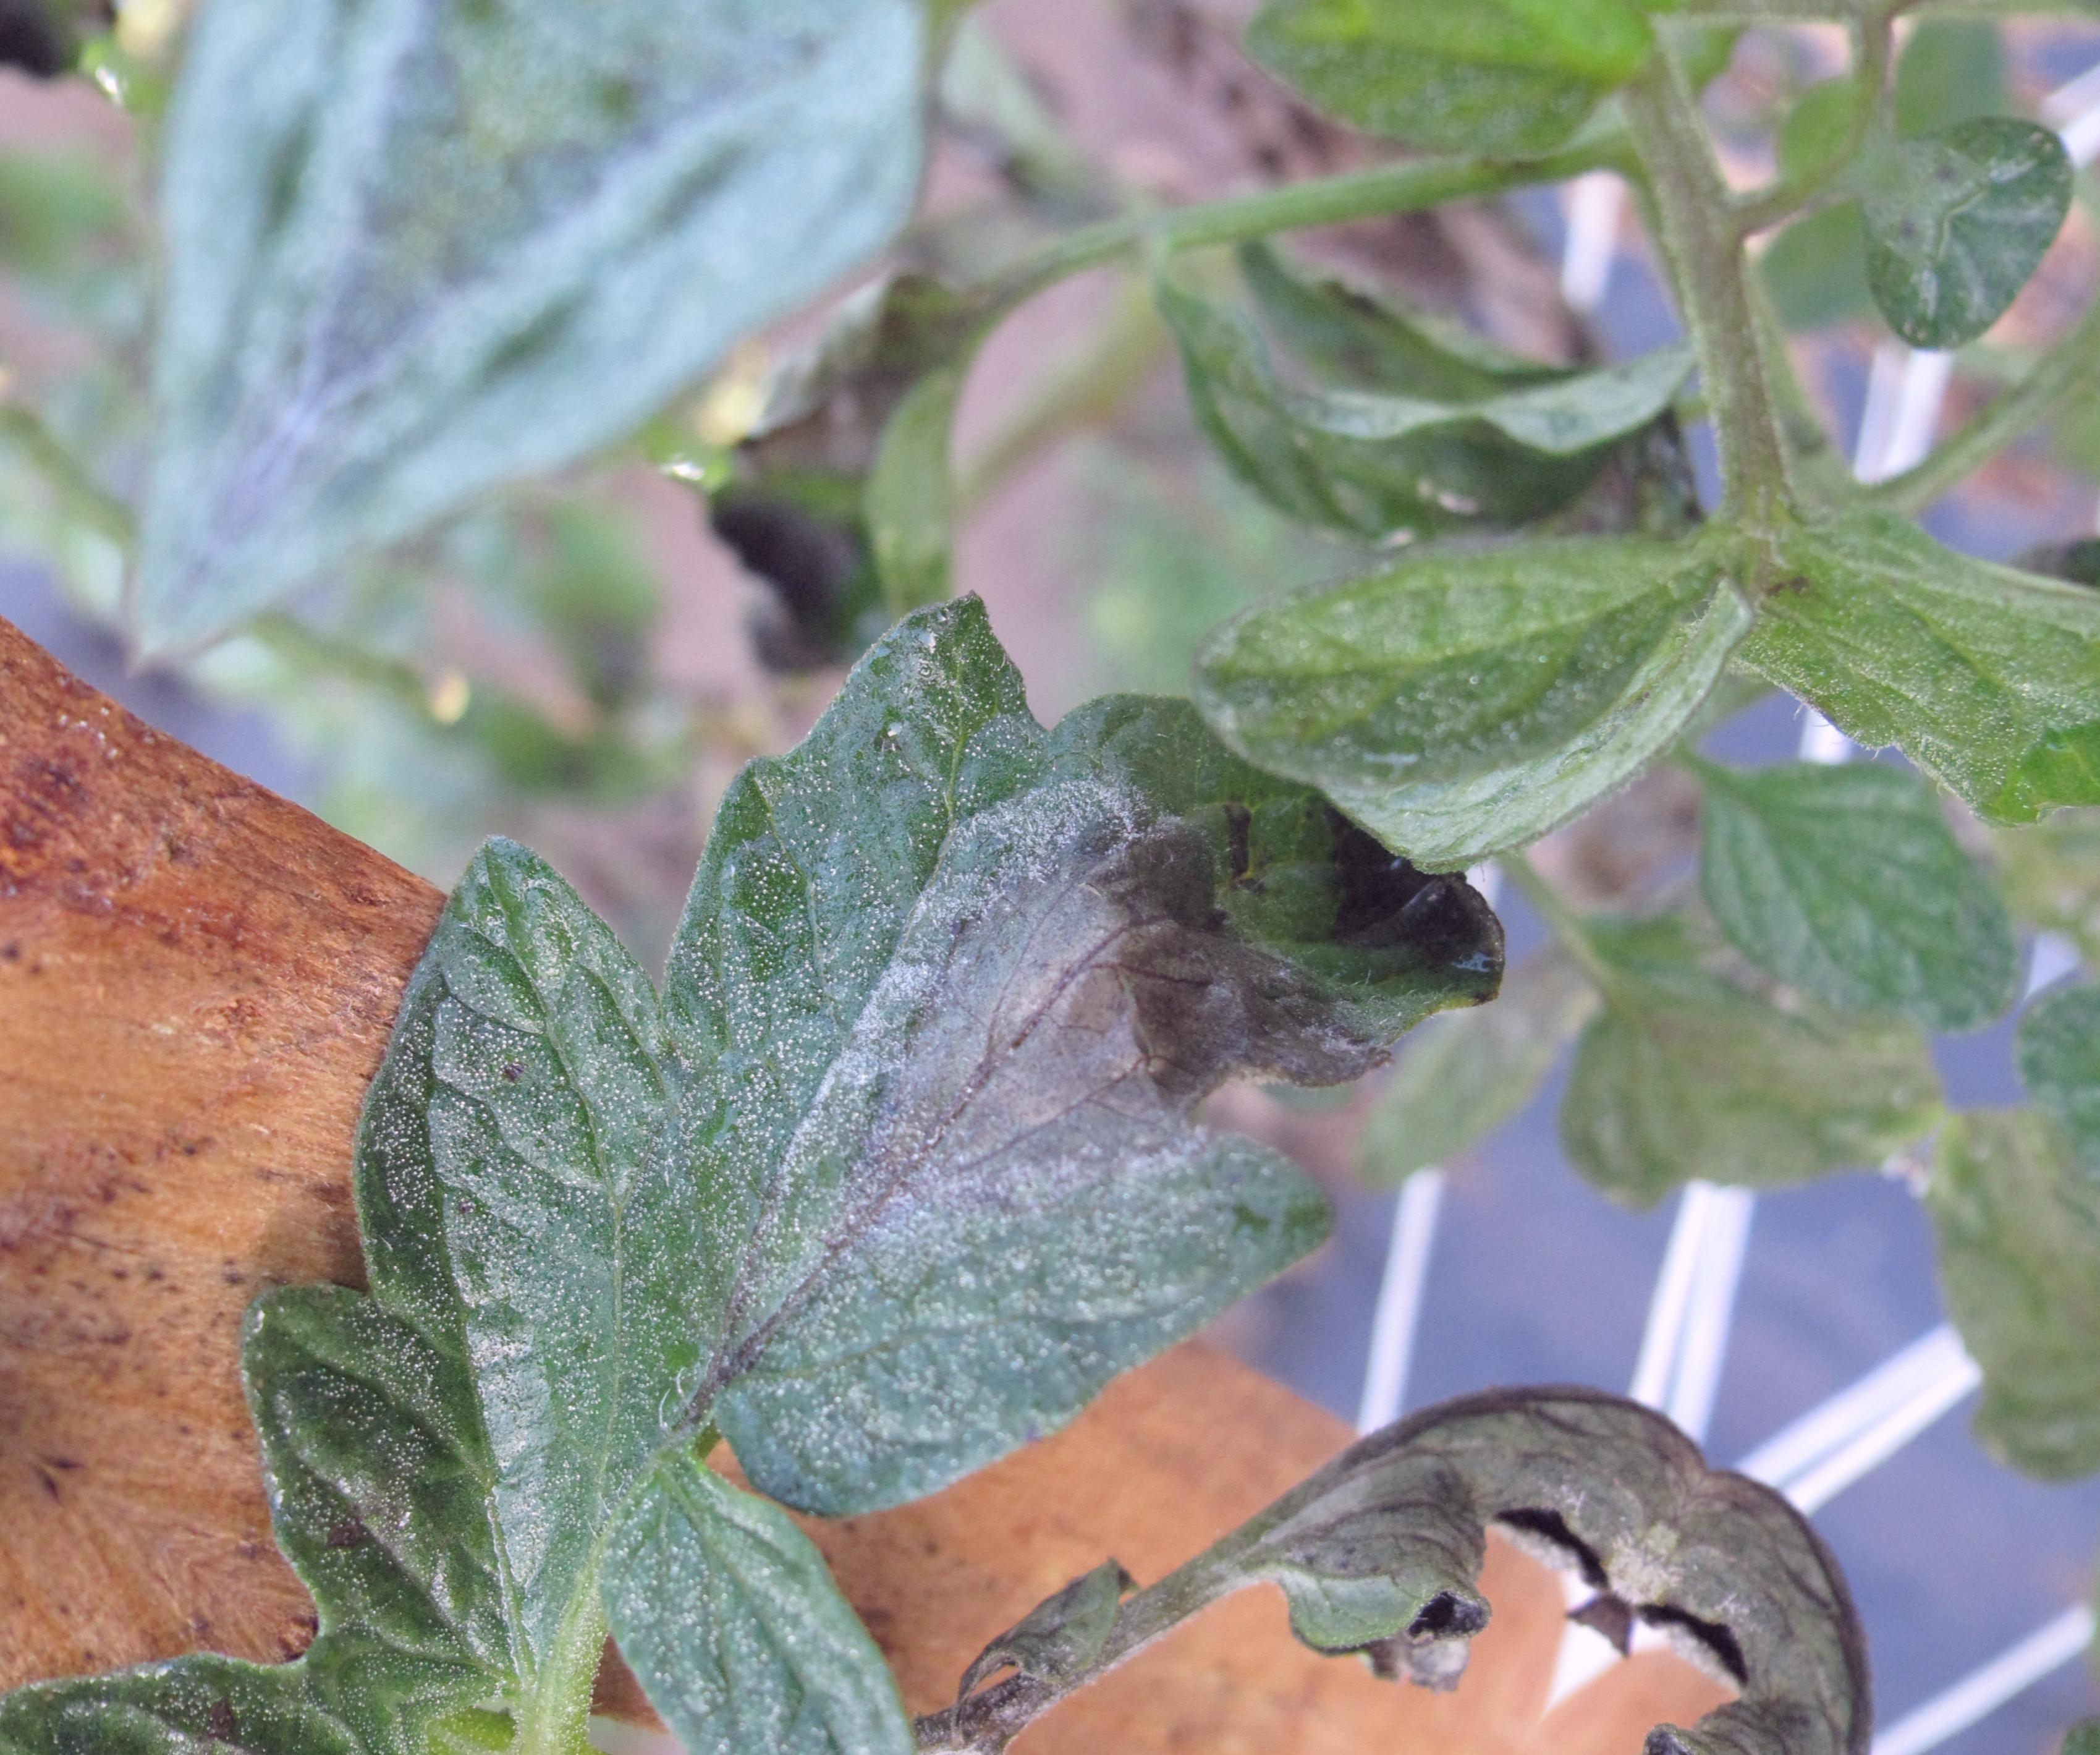Tomato leaf late blight: (39, 253, 1742, 1755)
